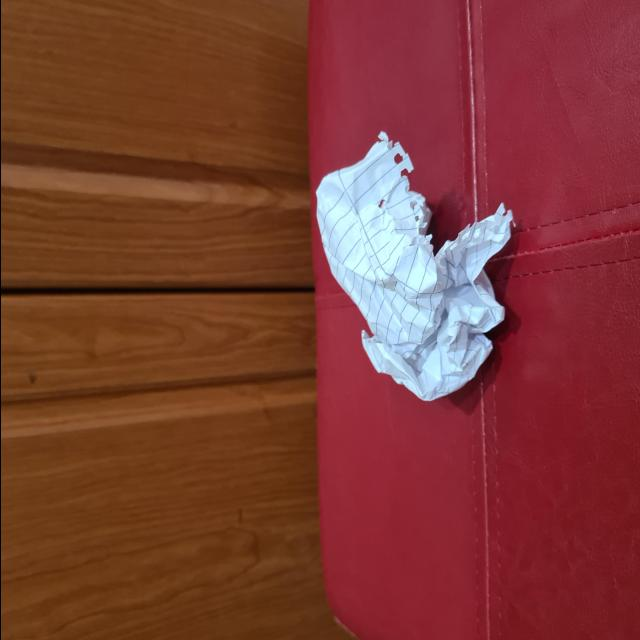kertas: (310, 129, 508, 394)
